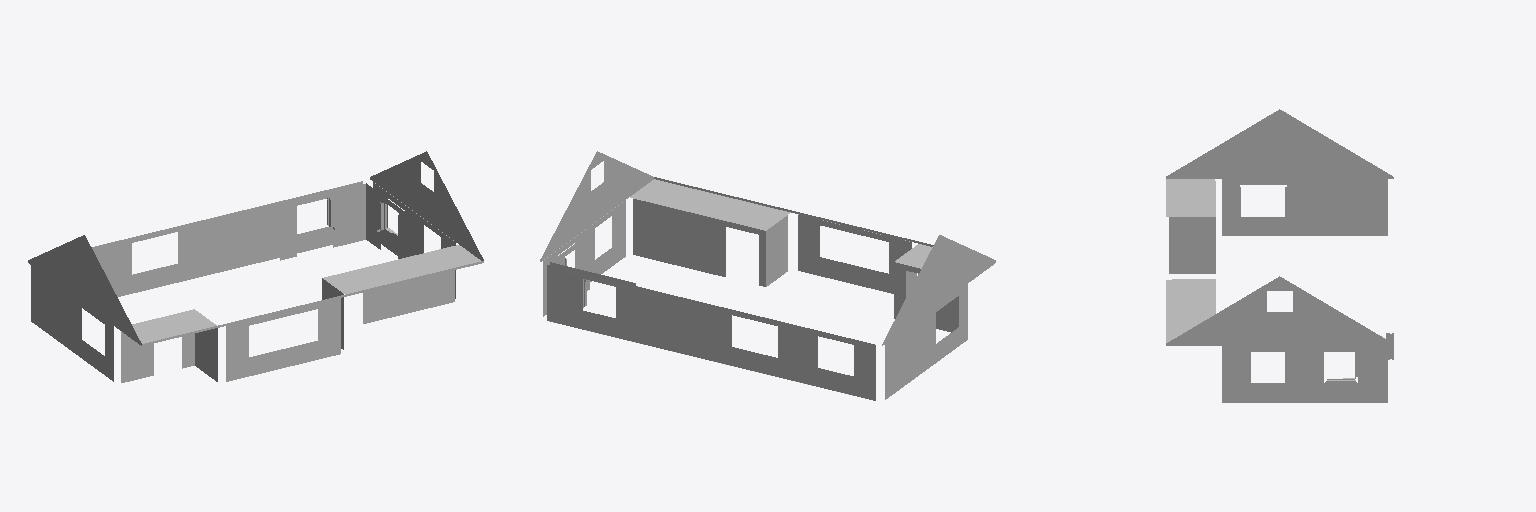
The model's file is old_house_wall.obj.
3 renders of one model, left to right at view 1: azimuth 30°, elevation 25°; view 2: azimuth 150°, elevation 25°; view 3: azimuth 270°, elevation 25°, orthographic.
Parts seen in each view (by area): view 1: House_Плоскость; view 2: House_Плоскость; view 3: House_Плоскость.
Boxes of the visible parts, <box> form: House_Плоскость: <box>28,151,483,382</box>; House_Плоскость: <box>540,151,995,400</box>; House_Плоскость: <box>1166,109,1393,402</box>.
Bounding box in the file's own units: 19.06 × 6.72 × 11.03.